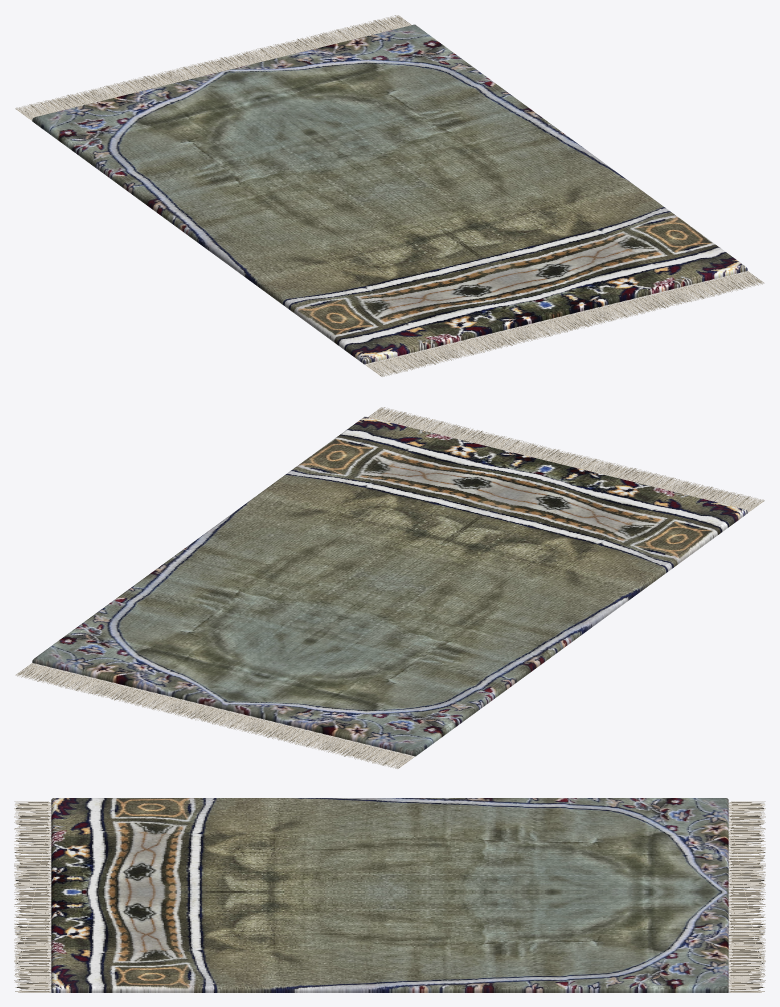
3 views of the same model, one above another, from view 1: azimuth 30°, elevation 25°; view 2: azimuth 150°, elevation 25°; view 3: azimuth 270°, elevation 25° (orthographic). The views are drawn at different scales.
Parts seen in each view (by area): view 1: k10; view 2: k10; view 3: k10.
Part boxes in pixels (box(x1,y1,x2,y2)): k10: box(15, 15, 764, 376); k10: box(15, 407, 764, 768); k10: box(14, 798, 765, 992).
Bounding box in the file's own units: 0.8 × 0.0105 × 1.33.
Materials: 3 (2 with a texture image).
